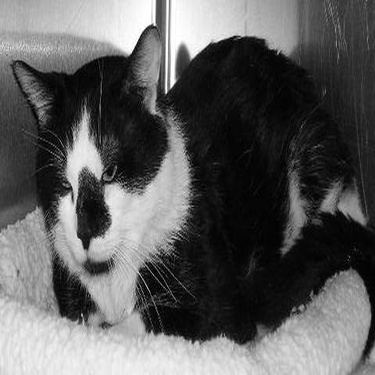cat: (7, 20, 373, 348)
